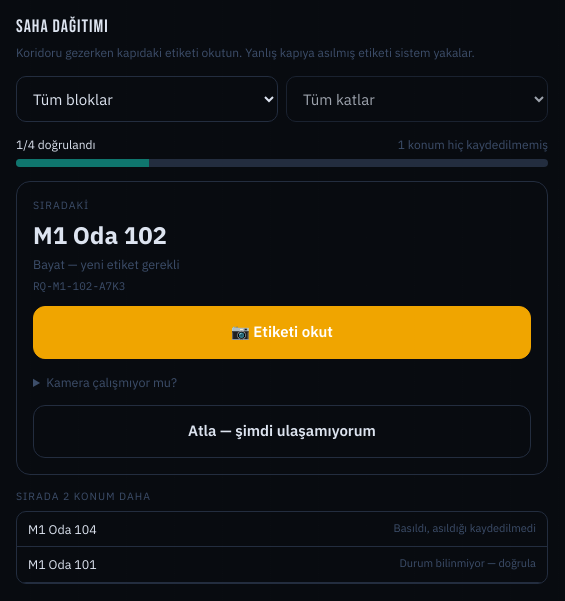
Scenario: saha dağıtımı ekranı › atlanan konum kuyruktan düşer ve geri alınabilir
Click the button "Atla — şimdi ulaşamıyorum". click: (282, 432)
box: x1=33 y1=405 x2=531 y2=458
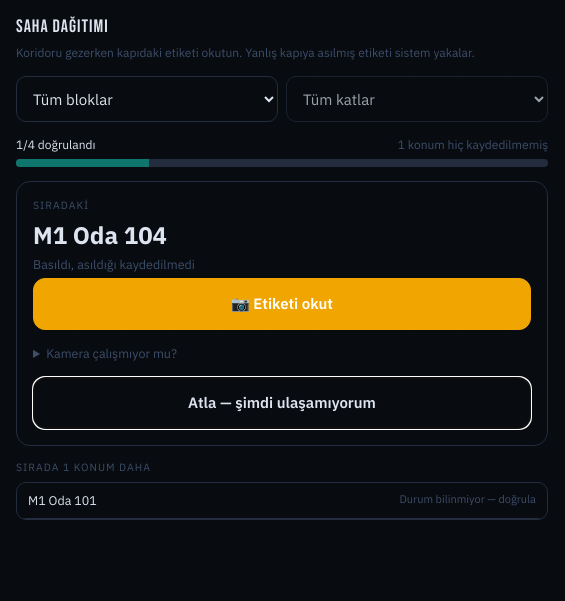
Check: the text "M1 Oda 104" is shown, box x1=33 y1=219 x2=167 y2=251
